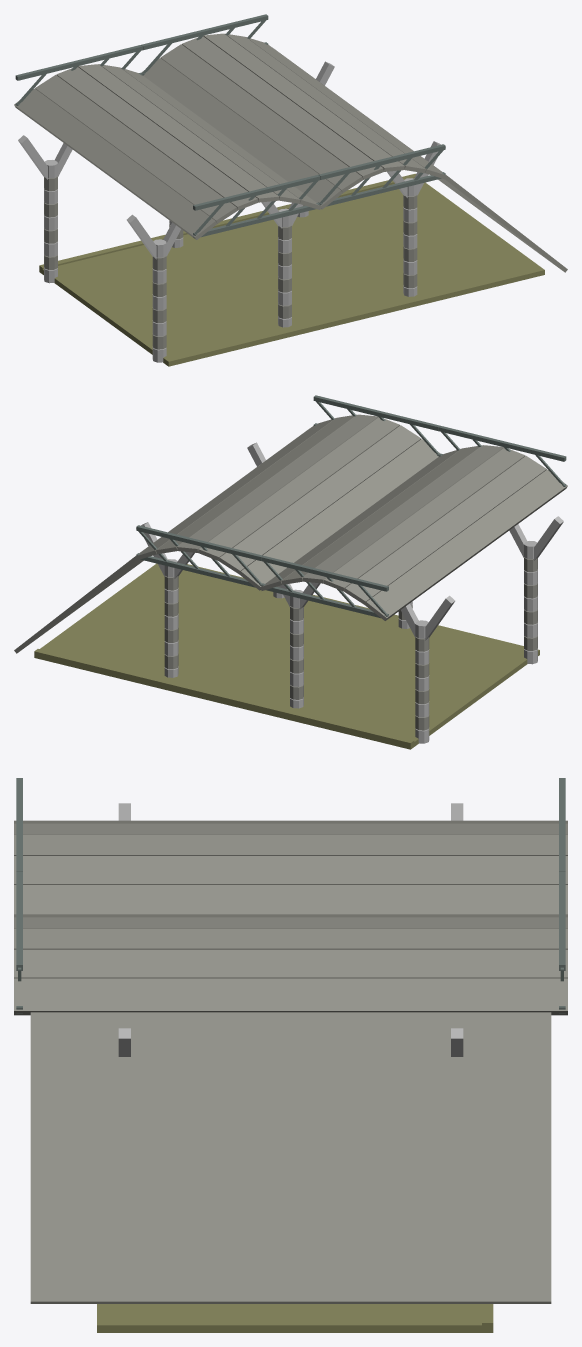
File: SM_MarquesinaBus_v0_Limpia_e1_Danado_LOD0.fbx
The picture shows the model from 3 angles, top to bottom: view 1: azimuth 30°, elevation 25°; view 2: azimuth 150°, elevation 25°; view 3: azimuth 270°, elevation 25°; orthographic projection. The views are drawn at different scales.
Parts seen in each view (by area): view 1: SM_marquesina_bus_v1_LOD0; view 2: SM_marquesina_bus_v1_LOD0; view 3: SM_marquesina_bus_v1_LOD0.
Part boxes in pixels (x1,y1,x2,y2): SM_marquesina_bus_v1_LOD0: (14,14,567,366); SM_marquesina_bus_v1_LOD0: (14,395,567,749); SM_marquesina_bus_v1_LOD0: (14,778,567,1332).
Size of the model in its own units: 13.03 by 5.46 by 10.
